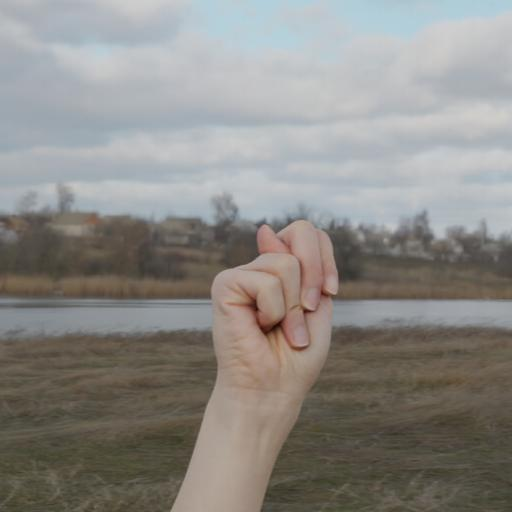N: (196, 202, 358, 420)
